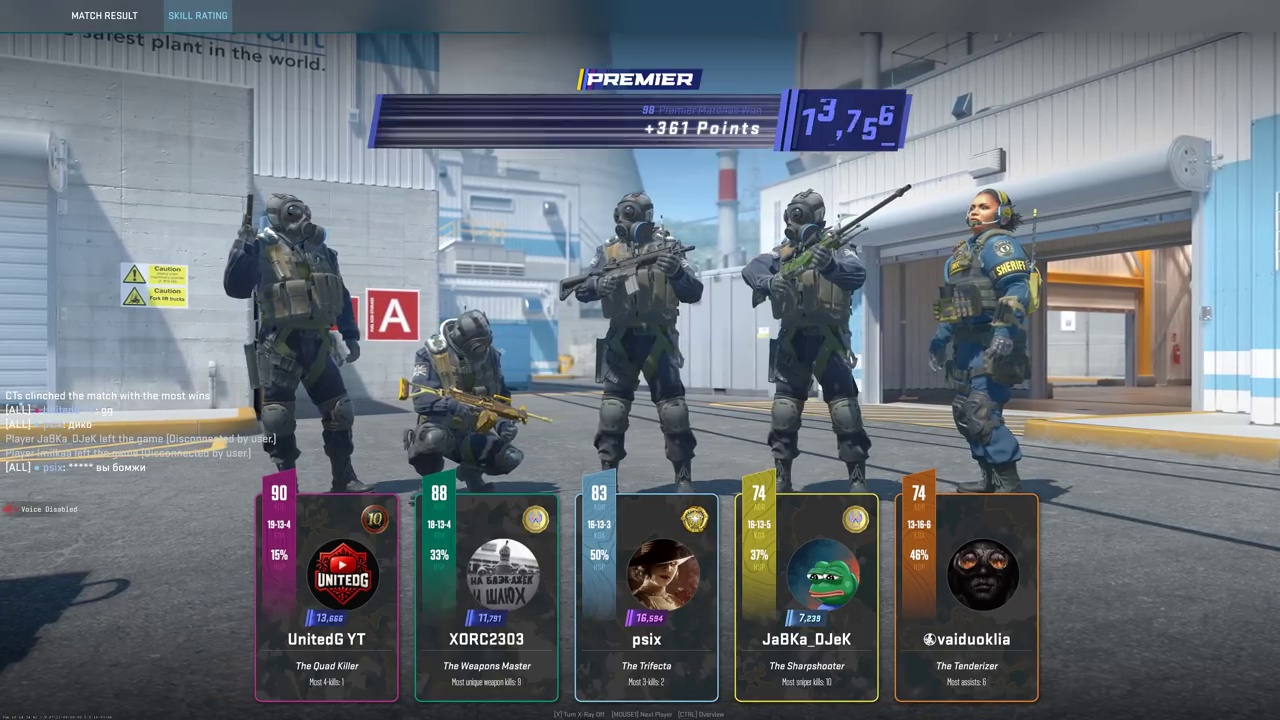CT: (242, 192, 362, 487), (757, 190, 869, 494), (929, 189, 1031, 492), (588, 191, 687, 494), (411, 309, 515, 496)
